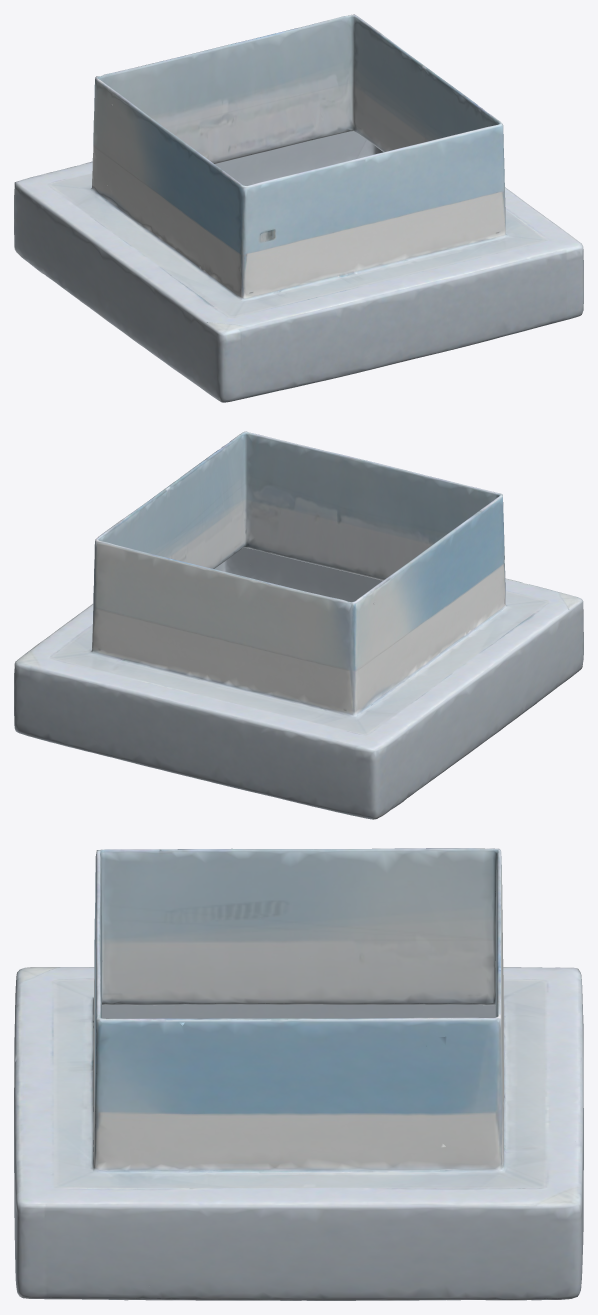
Rendered from 比色皿3.glb.
3 renders of one model, top to bottom at view 1: azimuth 30°, elevation 25°; view 2: azimuth 150°, elevation 25°; view 3: azimuth 270°, elevation 25°, orthographic. The views are drawn at different scales.
Bounding box in the file's own units: 2 × 0.9857 × 2.
1 material, 1 textured.
